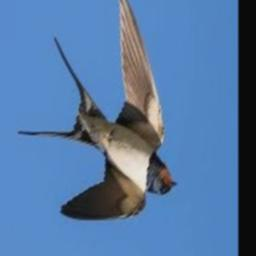Swallow: (18, 0, 177, 220)
